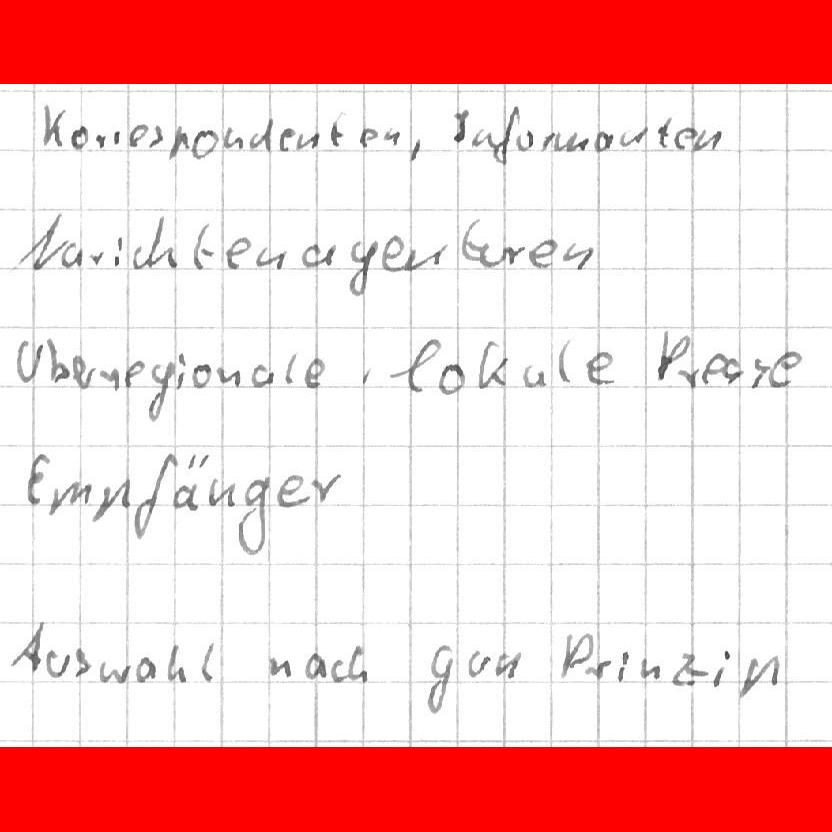Char: (133, 455, 175, 540), (234, 474, 270, 553), (16, 215, 63, 270), (389, 338, 437, 391), (134, 216, 177, 271), (423, 644, 455, 716), (735, 653, 782, 698), (344, 240, 378, 298), (146, 360, 177, 422), (46, 479, 93, 519), (8, 622, 44, 673), (654, 327, 686, 384), (476, 338, 510, 391), (560, 628, 594, 680), (176, 453, 207, 510), (93, 478, 131, 523), (491, 105, 517, 163), (24, 453, 50, 507), (40, 102, 68, 150), (407, 238, 447, 271), (770, 348, 801, 389), (276, 471, 310, 508), (585, 349, 615, 389), (299, 238, 337, 269), (191, 220, 215, 269), (13, 336, 36, 385), (527, 236, 560, 269), (310, 471, 341, 505), (560, 239, 594, 269), (437, 360, 466, 395), (380, 233, 405, 273), (207, 476, 237, 509), (709, 646, 732, 689), (460, 216, 481, 263), (672, 649, 698, 686), (167, 641, 189, 684), (346, 643, 368, 684), (99, 658, 131, 686), (554, 336, 573, 383), (224, 235, 249, 270), (48, 337, 67, 383), (192, 126, 218, 159), (701, 352, 725, 387), (250, 118, 274, 153), (168, 122, 190, 160), (71, 352, 93, 389), (494, 650, 522, 679), (450, 106, 470, 146), (199, 642, 218, 684), (255, 244, 285, 270), (59, 239, 84, 269), (466, 649, 490, 680), (45, 649, 70, 678), (618, 124, 647, 149), (303, 357, 326, 388), (584, 657, 612, 682), (303, 651, 326, 681), (695, 128, 723, 152), (562, 130, 591, 153), (124, 358, 145, 389), (522, 363, 547, 389), (95, 364, 121, 389), (328, 114, 347, 148), (282, 350, 299, 388), (750, 356, 770, 388), (223, 123, 245, 152), (251, 362, 275, 388), (503, 241, 527, 267), (477, 240, 500, 267), (72, 647, 91, 679), (638, 657, 662, 682), (267, 655, 293, 678), (135, 655, 157, 682), (656, 118, 674, 150), (470, 126, 495, 149), (190, 362, 212, 388), (216, 365, 242, 387), (592, 128, 614, 153), (127, 122, 148, 148), (175, 350, 188, 392), (725, 356, 743, 386), (297, 128, 320, 151), (677, 365, 700, 388), (110, 234, 125, 269), (148, 122, 166, 151), (674, 126, 694, 152), (514, 127, 534, 153), (380, 125, 401, 149), (82, 245, 103, 268), (616, 650, 631, 682), (358, 364, 381, 384), (70, 125, 88, 150), (278, 127, 296, 152), (408, 136, 425, 162), (357, 125, 378, 146), (538, 130, 558, 152), (91, 129, 111, 150), (330, 659, 345, 683), (113, 128, 121, 146)
